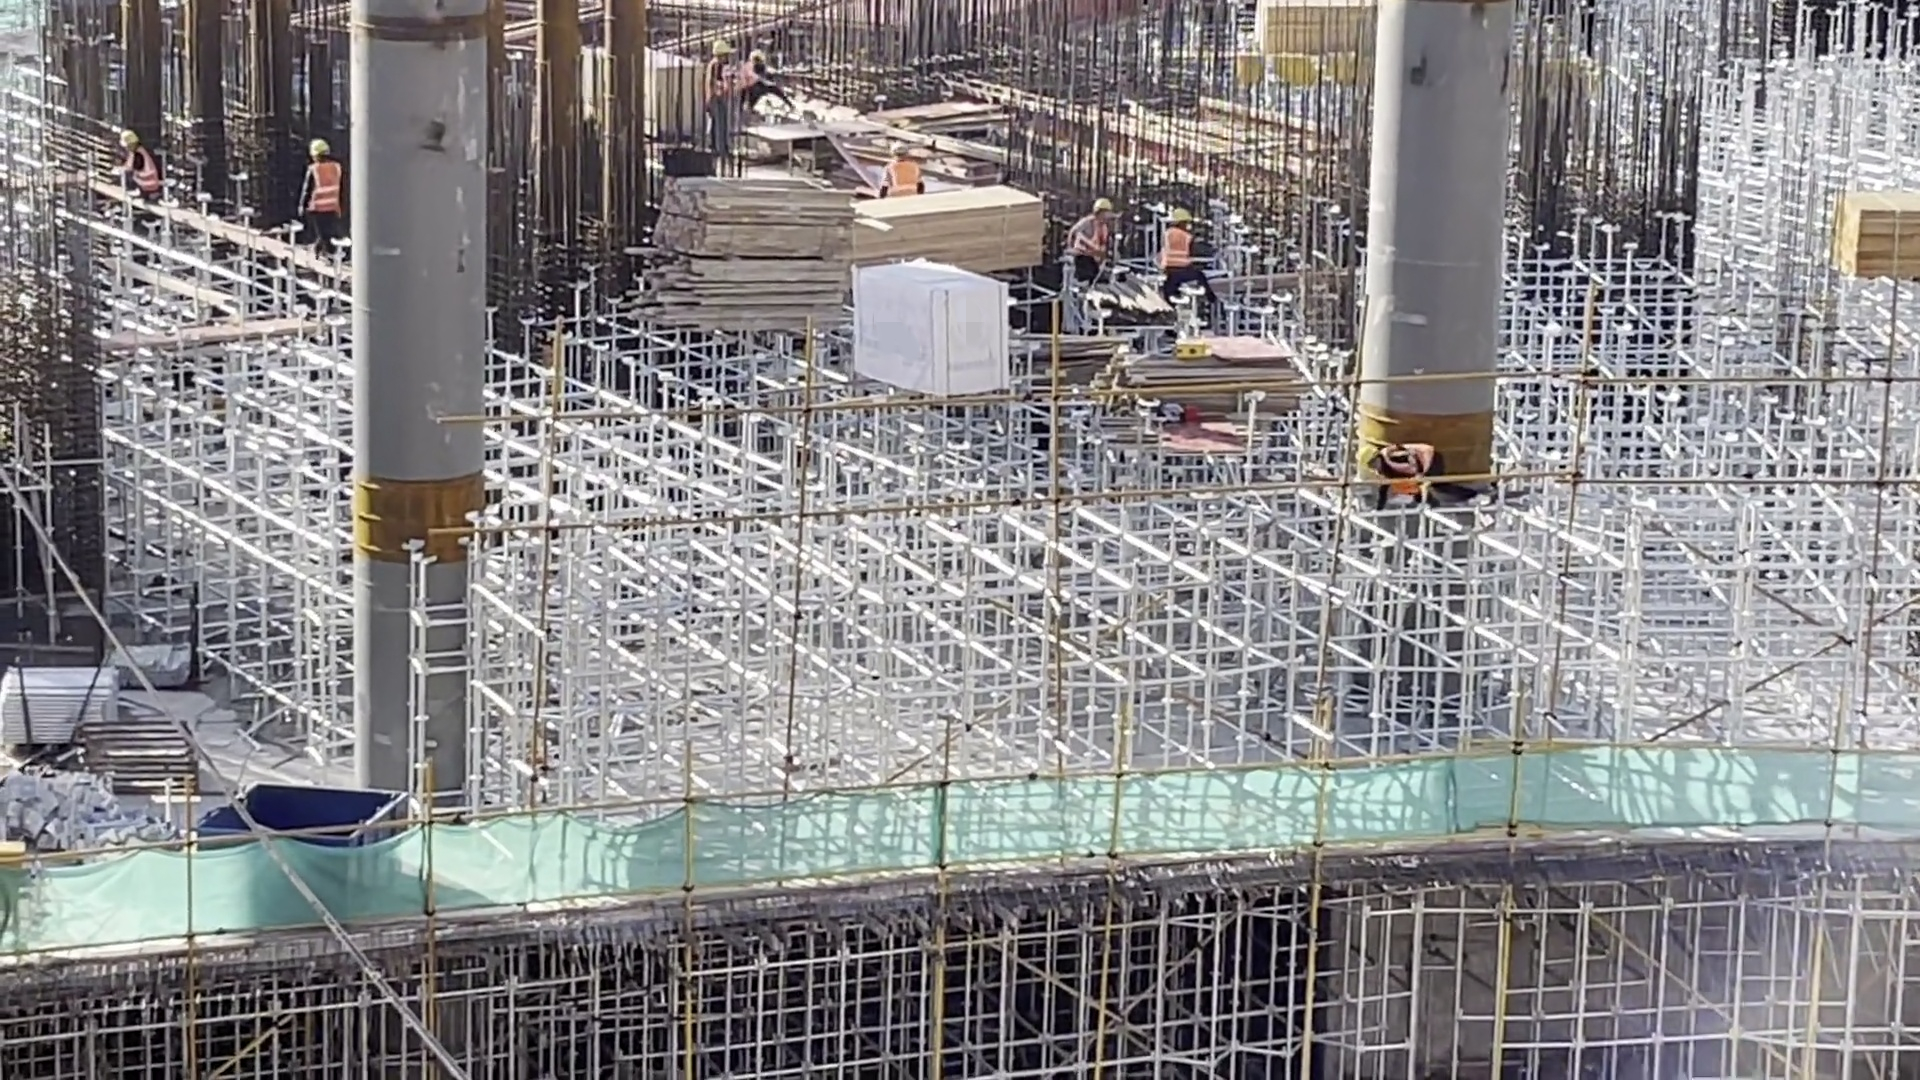board: (1110, 336, 1297, 426)
cutter: (749, 114, 888, 170)
helmet: (1350, 440, 1387, 470), (1092, 193, 1115, 215), (1165, 206, 1194, 223), (709, 39, 735, 56), (306, 138, 328, 156), (887, 138, 910, 155), (117, 133, 137, 148)
hopper: (202, 777, 424, 847)
person: (1350, 438, 1447, 519), (1156, 201, 1218, 313), (1059, 191, 1123, 291), (702, 33, 739, 156), (301, 134, 342, 239), (112, 126, 156, 206), (745, 55, 798, 110), (882, 144, 923, 200)
vest: (1381, 445, 1435, 496), (126, 146, 158, 200), (1076, 216, 1109, 264), (1160, 228, 1195, 270), (312, 164, 341, 211), (706, 57, 729, 111), (892, 161, 922, 197)
wood: (648, 172, 851, 336), (832, 175, 1045, 291), (1836, 183, 1920, 282), (1258, 2, 1375, 55)
